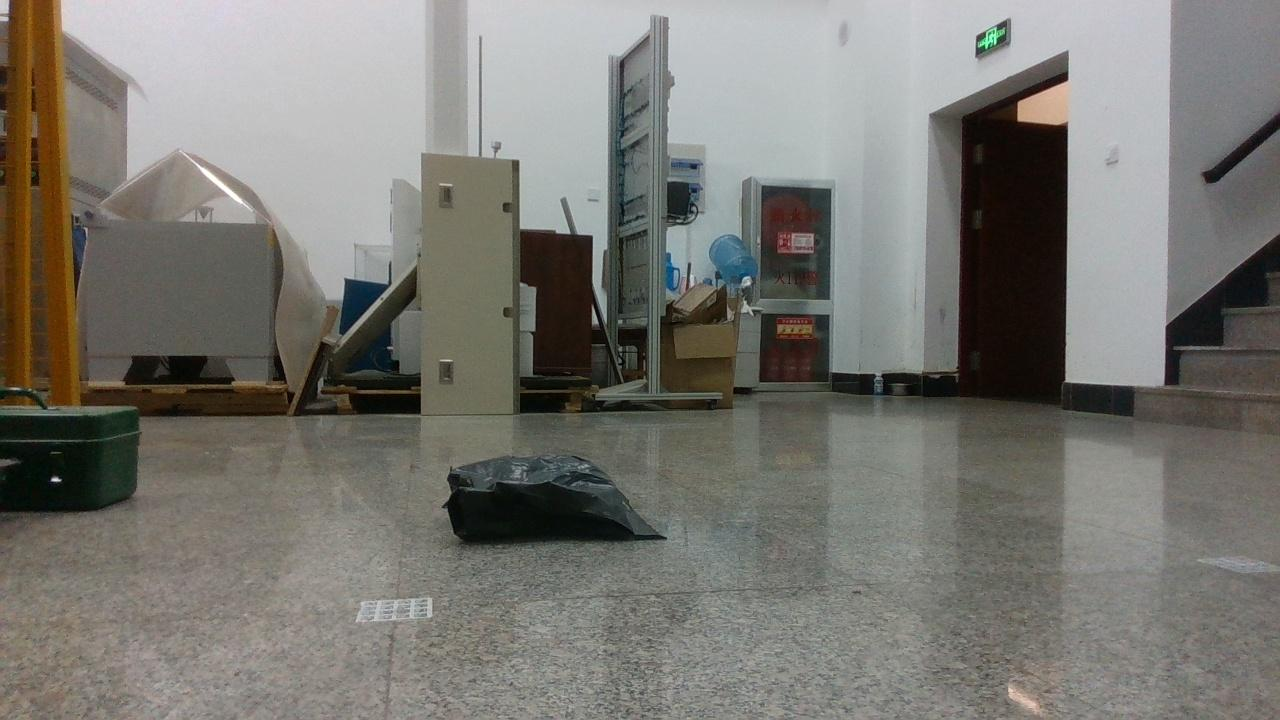package: (442, 455, 669, 540)
